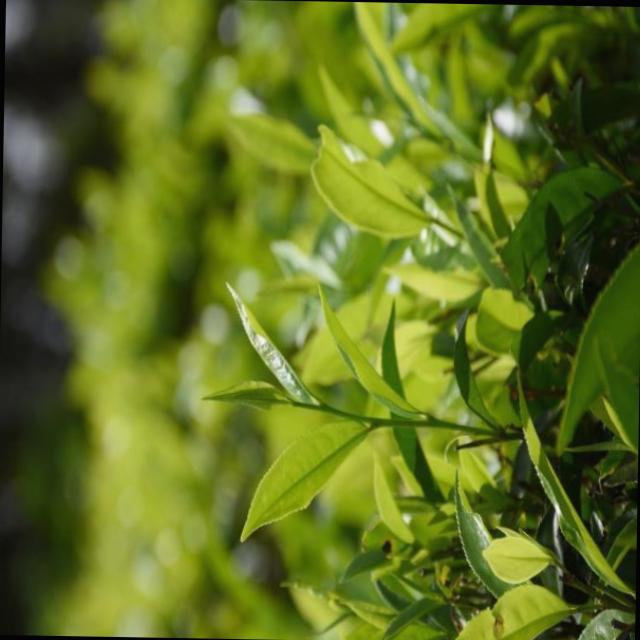Stem: (319, 402, 327, 410)
